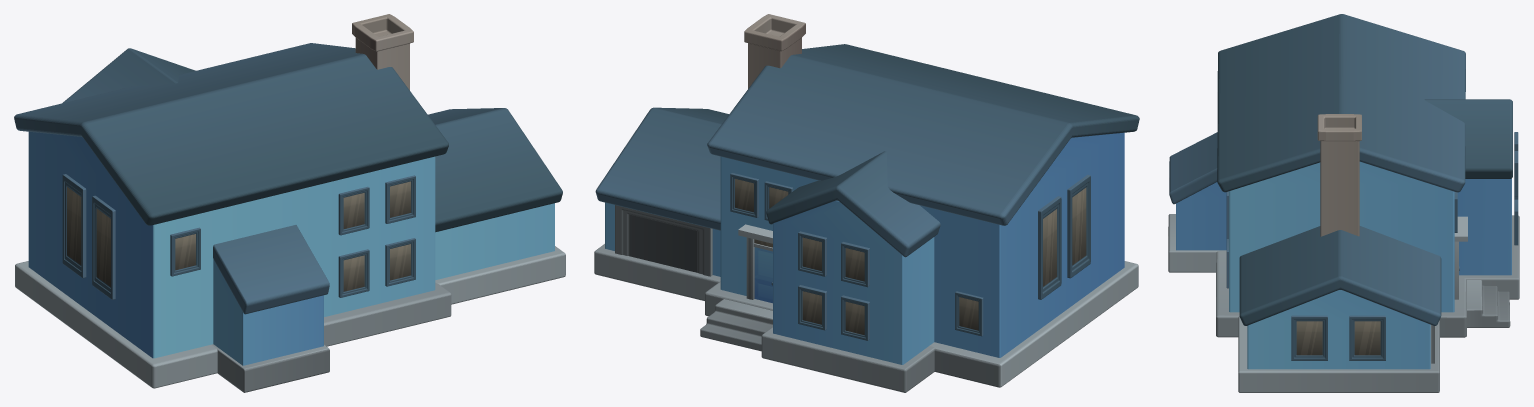
File: CASA AZUL.fbx
3 renders of one model, left to right at view 1: azimuth 30°, elevation 25°; view 2: azimuth 150°, elevation 25°; view 3: azimuth 270°, elevation 25°, orthographic. The views are drawn at different scales.
Parts seen in each view (by area): view 1: Cube.028; view 2: Cube.028; view 3: Cube.028.
Boxes of the visible parts, bbox=[...] form: Cube.028: bbox=[14, 14, 565, 392]; Cube.028: bbox=[594, 14, 1139, 392]; Cube.028: bbox=[1168, 14, 1519, 392].
Size of the model in its own units: 2360 by 1868 by 1265.
2 materials, 2 textured.
